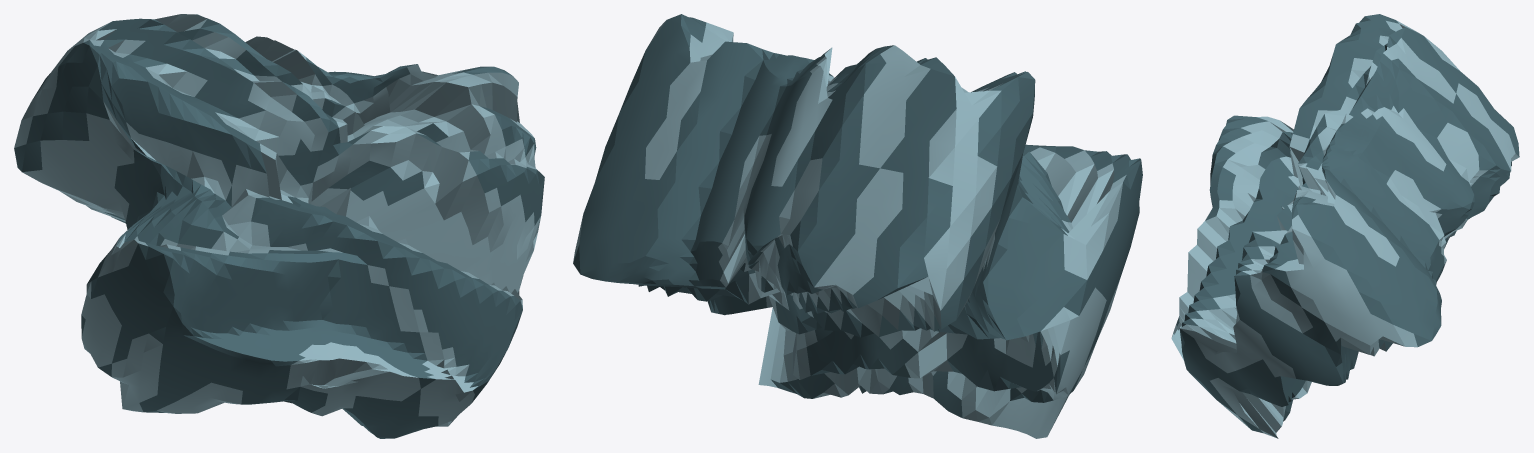
File: huge-oxide-asteroid.glb
3 renders of one model, left to right at view 1: azimuth 30°, elevation 25°; view 2: azimuth 150°, elevation 25°; view 3: azimuth 270°, elevation 25°, orthographic. The views are drawn at different scales.
Visible parts, largest first — view 1: body; view 2: body; view 3: body.
Boxes of the visible parts, x1,y1,x2,y2 form: body: (14,14,544,438); body: (573,14,1142,438); body: (1171,14,1519,438).
Bounding box in the file's own units: 11.01 × 10.13 × 10.12.
